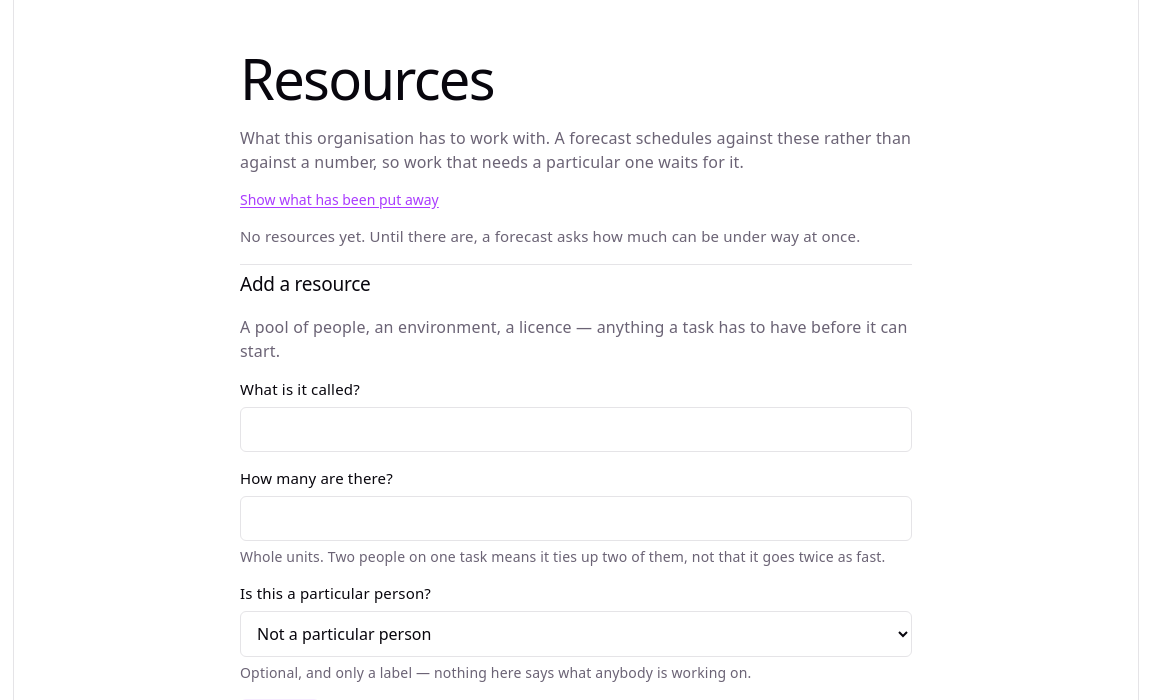
Test: ResourcesPage › says why a pool was refused, against the field it was refused for
Check: the heading "Resources" is shown, box [240,40,494,116]
Type "Nobody" into the field labelled "What is it called?". click: (576, 429)
box: [240,407,912,452]
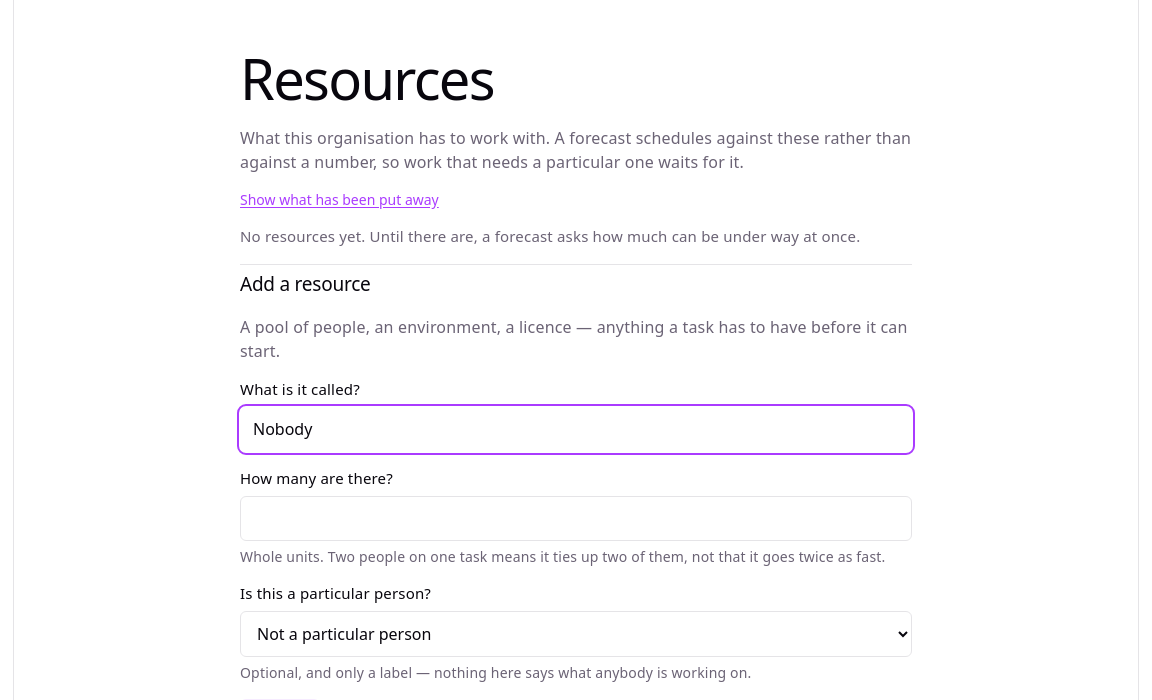
Type "0" into the number field labelled "How many are there?". click: (576, 518)
box: [240,496,912,541]
(page scrolled)
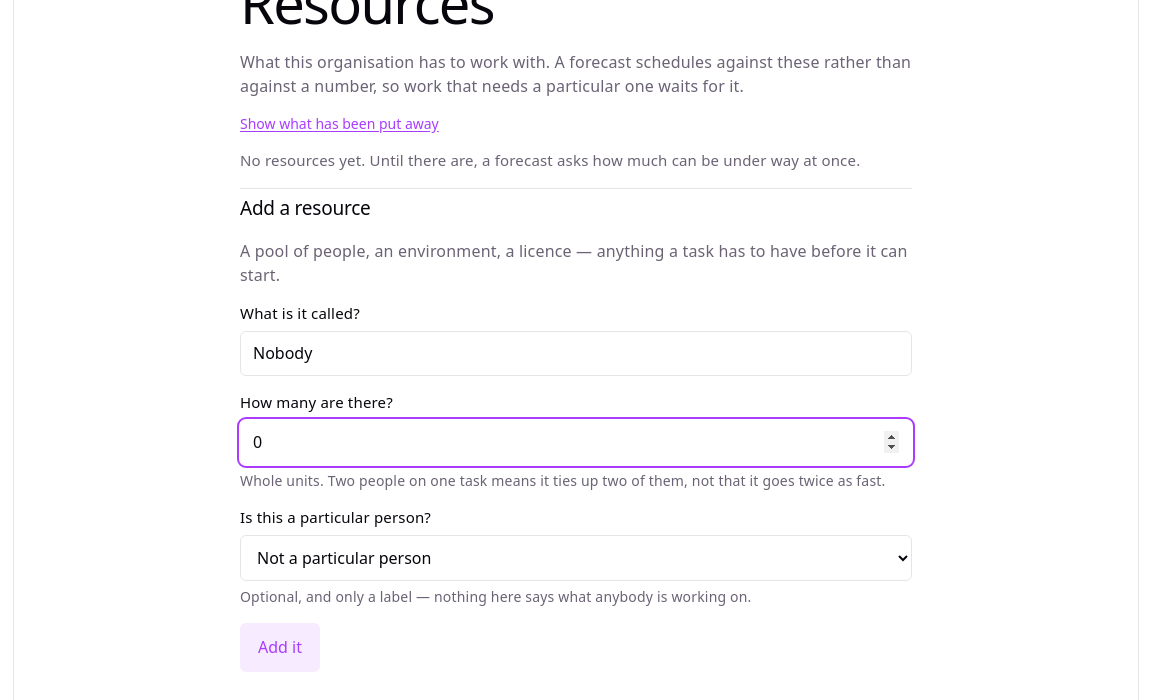
Click the button "Add it". click: (280, 648)
box: [240,623,320,672]
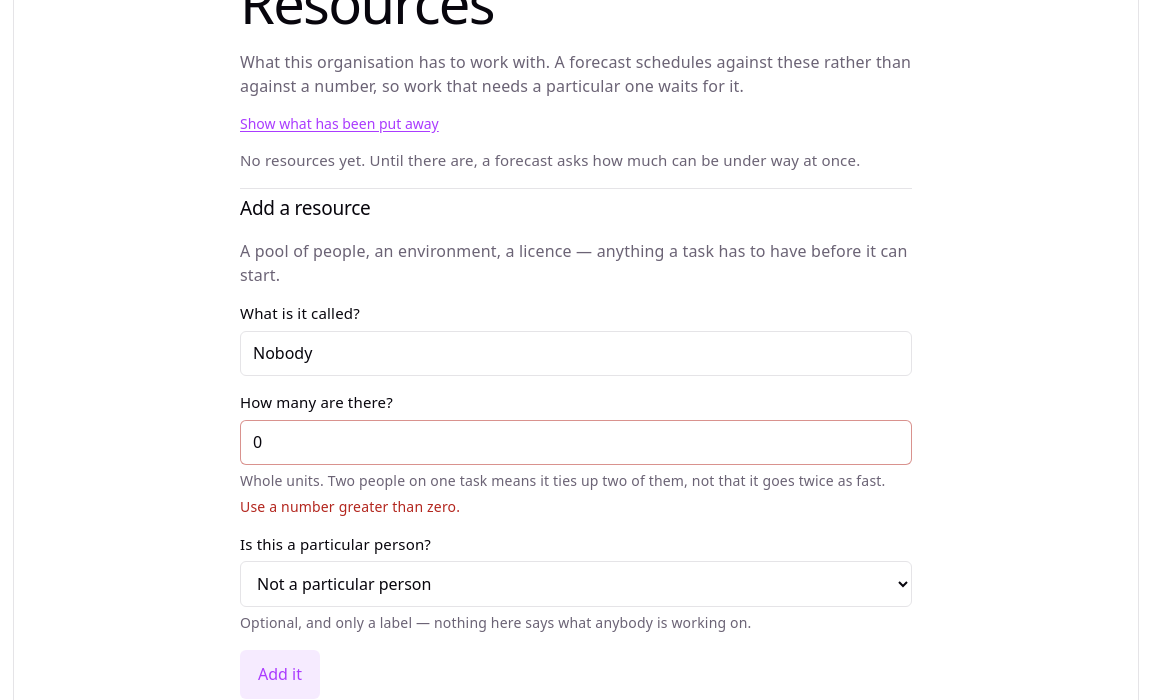
Check: the text "Use a number greater than zero." is shown, box [240,497,460,516]
